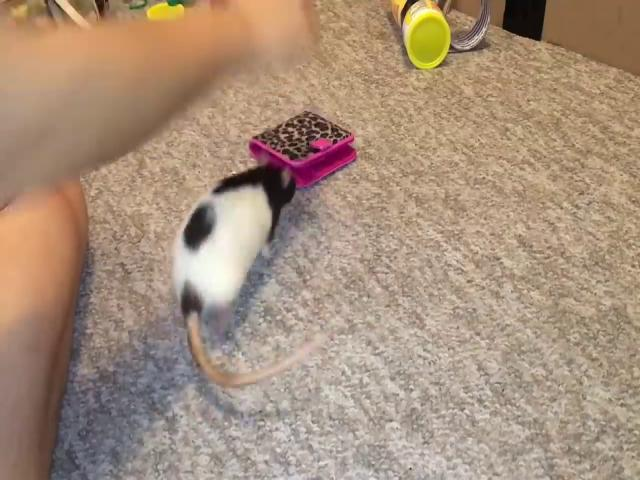Tikus: (171, 156, 333, 394)
